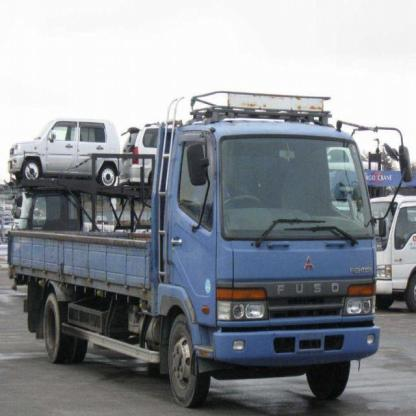truck: (8, 93, 411, 409)
